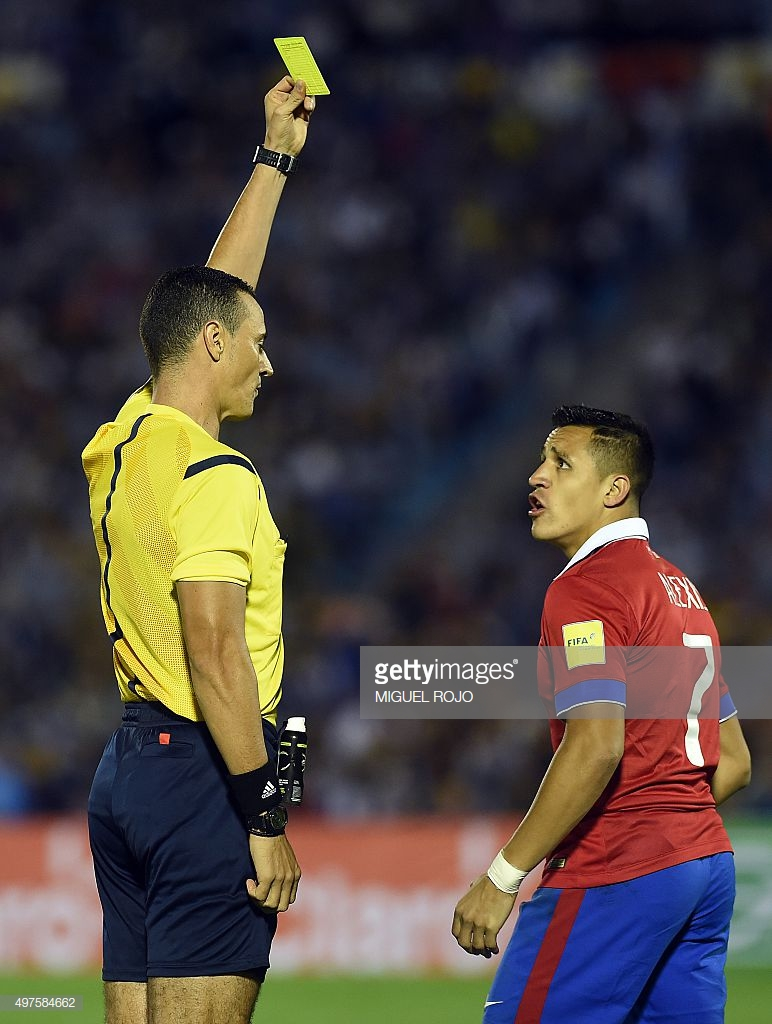yellow_card: (237, 28, 342, 152)
